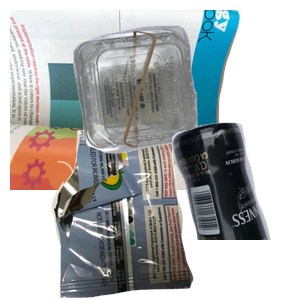glass: (106, 120, 300, 300)
paper: (10, 10, 250, 190)
plastic: (71, 23, 300, 169)
trash: (49, 130, 235, 300)
